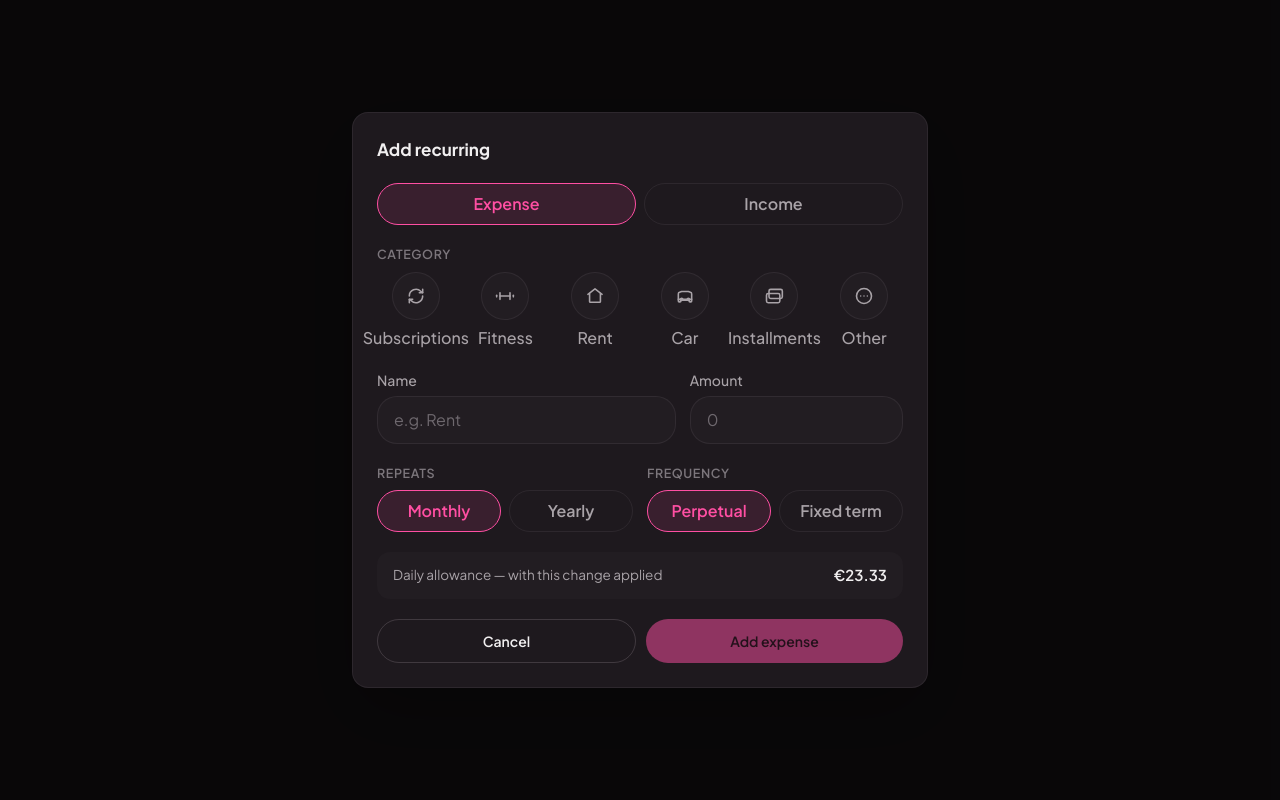
Test: AddRecurringModal › shows the translated error and keeps the modal open when the action fails
The width and height of the screenshot is (1280, 800).
Type "Rent" into the field labelled "Name".
click(526, 420); type("Rent")  # box [377,396,676,444]
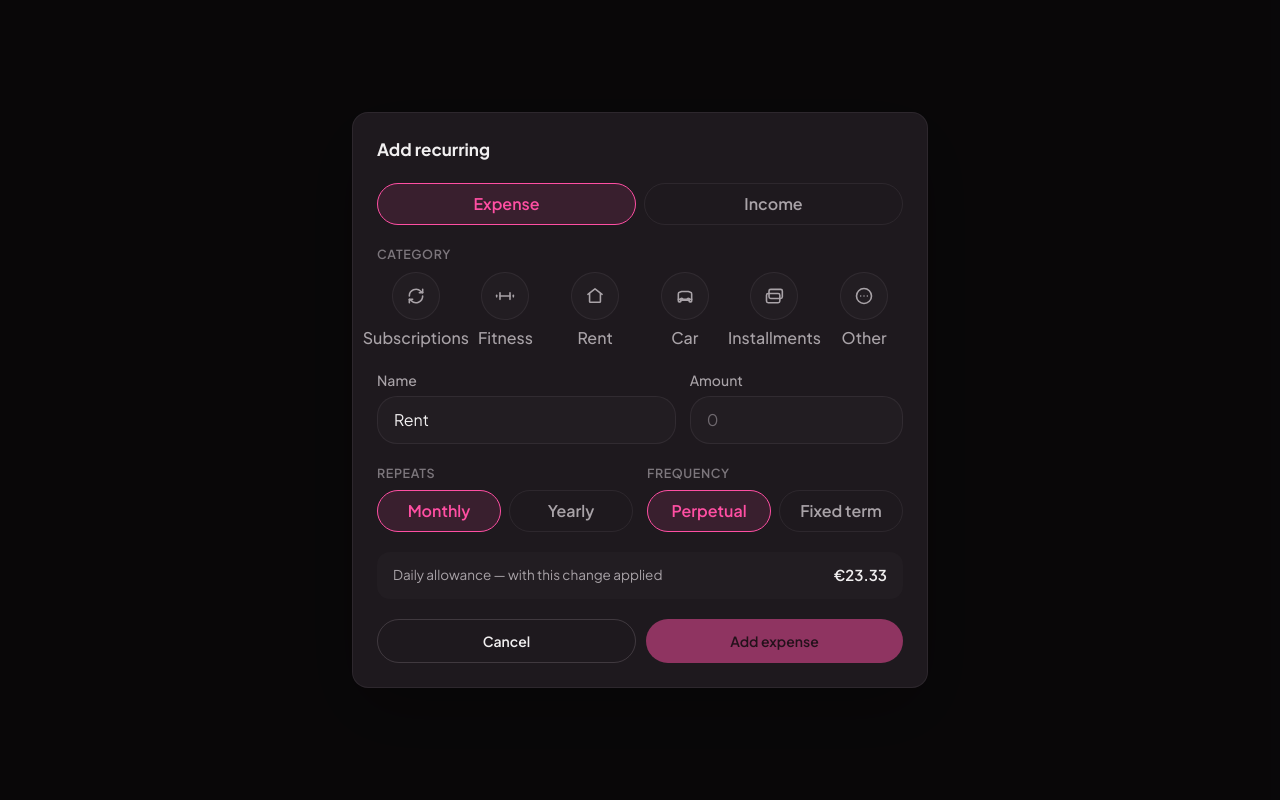
Type "950" into the field labelled "Amount".
click(796, 420); type("950")  # box [690,396,903,444]
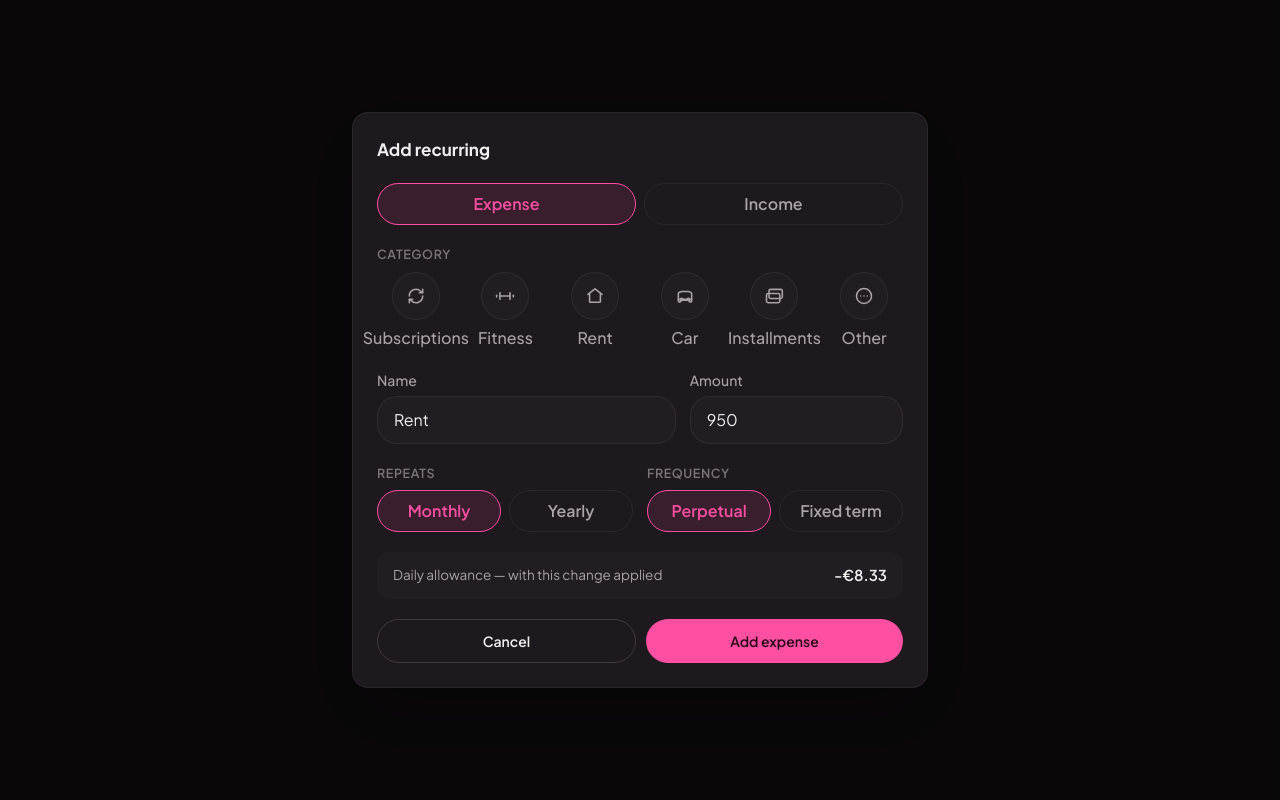
Click the button "Add expense".
click(774, 641)  # box [646,619,903,663]
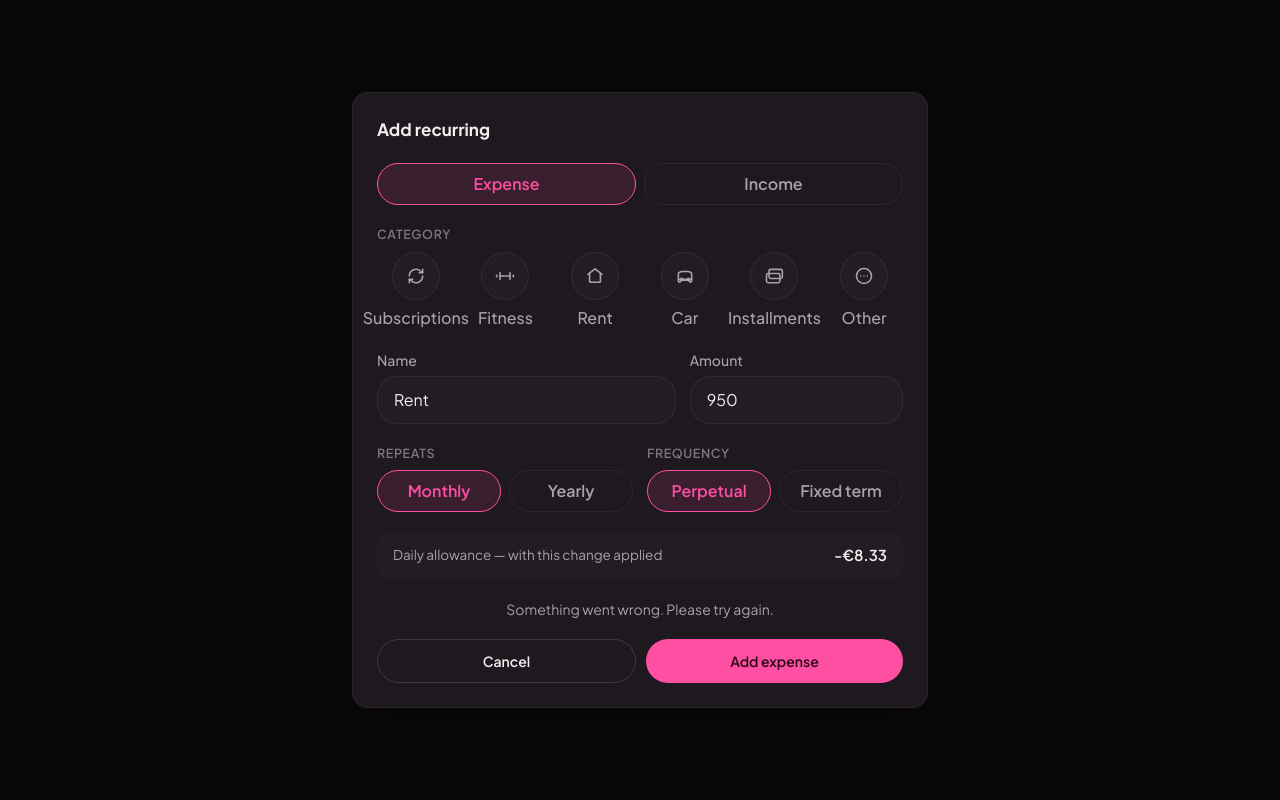
Expected: the message reads "Something went wrong. Please try again.", [506,600,774,618]
